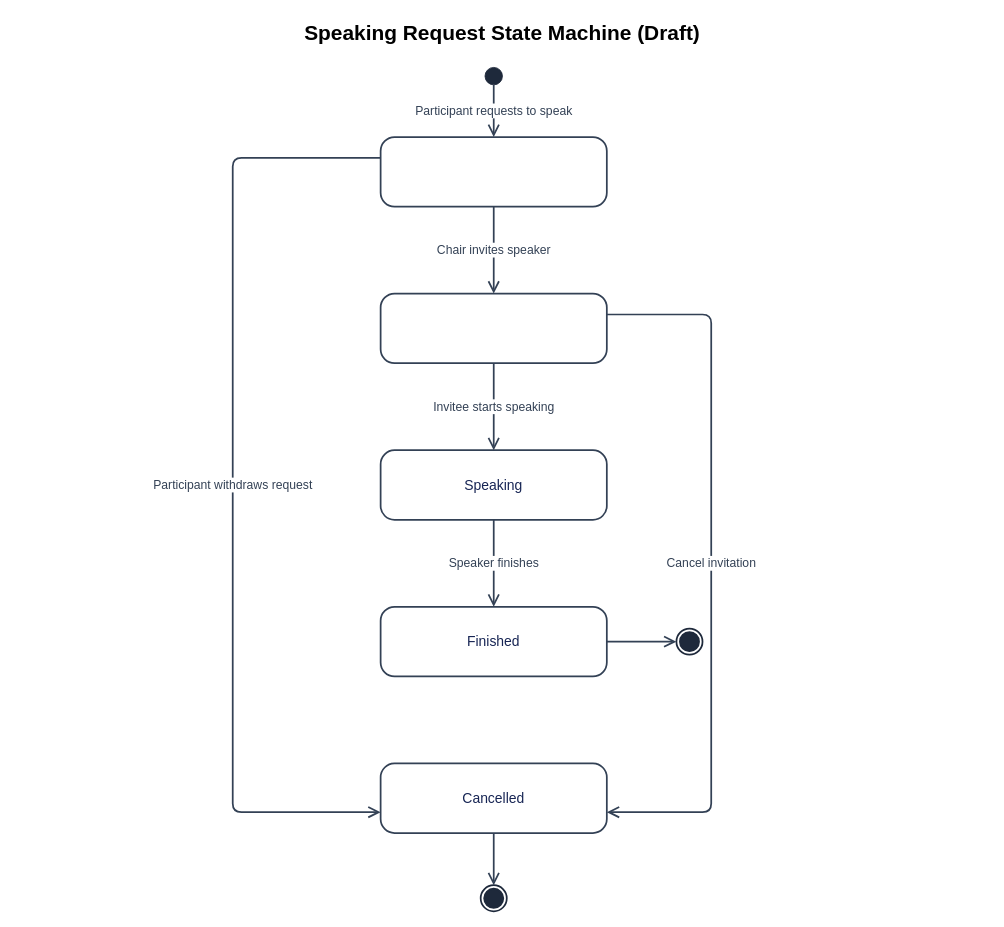
The diagram is 1004 pixels wide and 927 high, and some of its shapes have lost their labels. Here are the shapes that lost their labels. From the top down, the centre of each, then its label:
At [493,171]: "Queued".
At [493,328]: "Invited".
